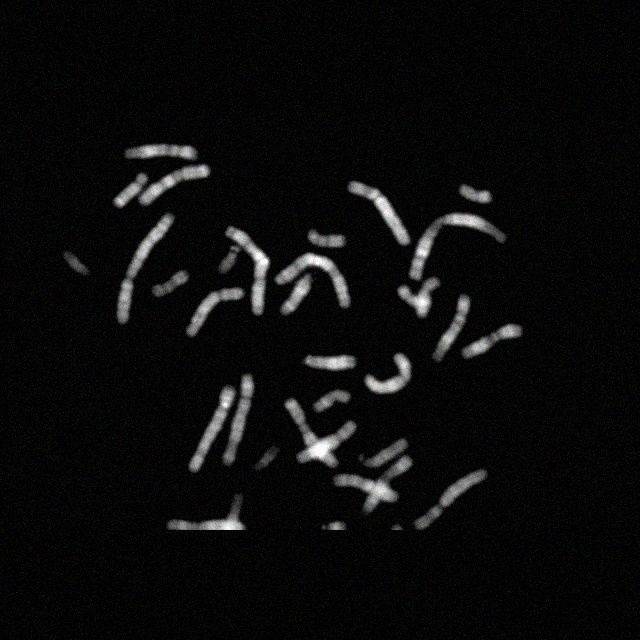chromosome: (409, 213, 507, 280), (117, 212, 175, 324), (413, 468, 487, 530), (189, 383, 235, 472), (276, 253, 350, 307), (348, 181, 410, 245), (225, 225, 269, 313), (286, 399, 338, 467), (222, 373, 255, 467), (138, 165, 210, 207), (187, 288, 245, 336), (363, 456, 412, 512), (434, 293, 471, 362), (297, 421, 357, 463), (364, 351, 412, 394), (461, 324, 521, 358), (329, 474, 399, 502), (359, 437, 409, 468), (281, 274, 313, 316), (112, 172, 148, 208), (124, 144, 198, 160), (152, 270, 188, 296), (314, 388, 351, 412), (418, 277, 440, 317), (306, 354, 356, 371), (167, 520, 247, 530), (396, 286, 432, 308), (216, 244, 239, 274), (255, 444, 280, 471), (64, 252, 91, 276), (308, 229, 344, 247), (225, 493, 242, 531), (460, 185, 490, 202), (321, 520, 347, 530)
